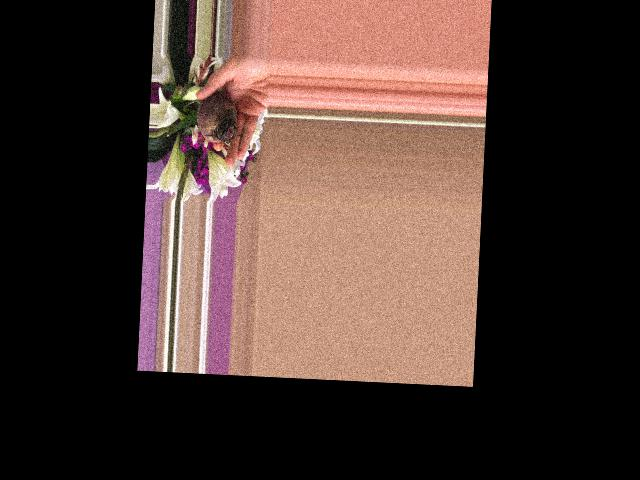beet: (183, 89, 238, 144)
